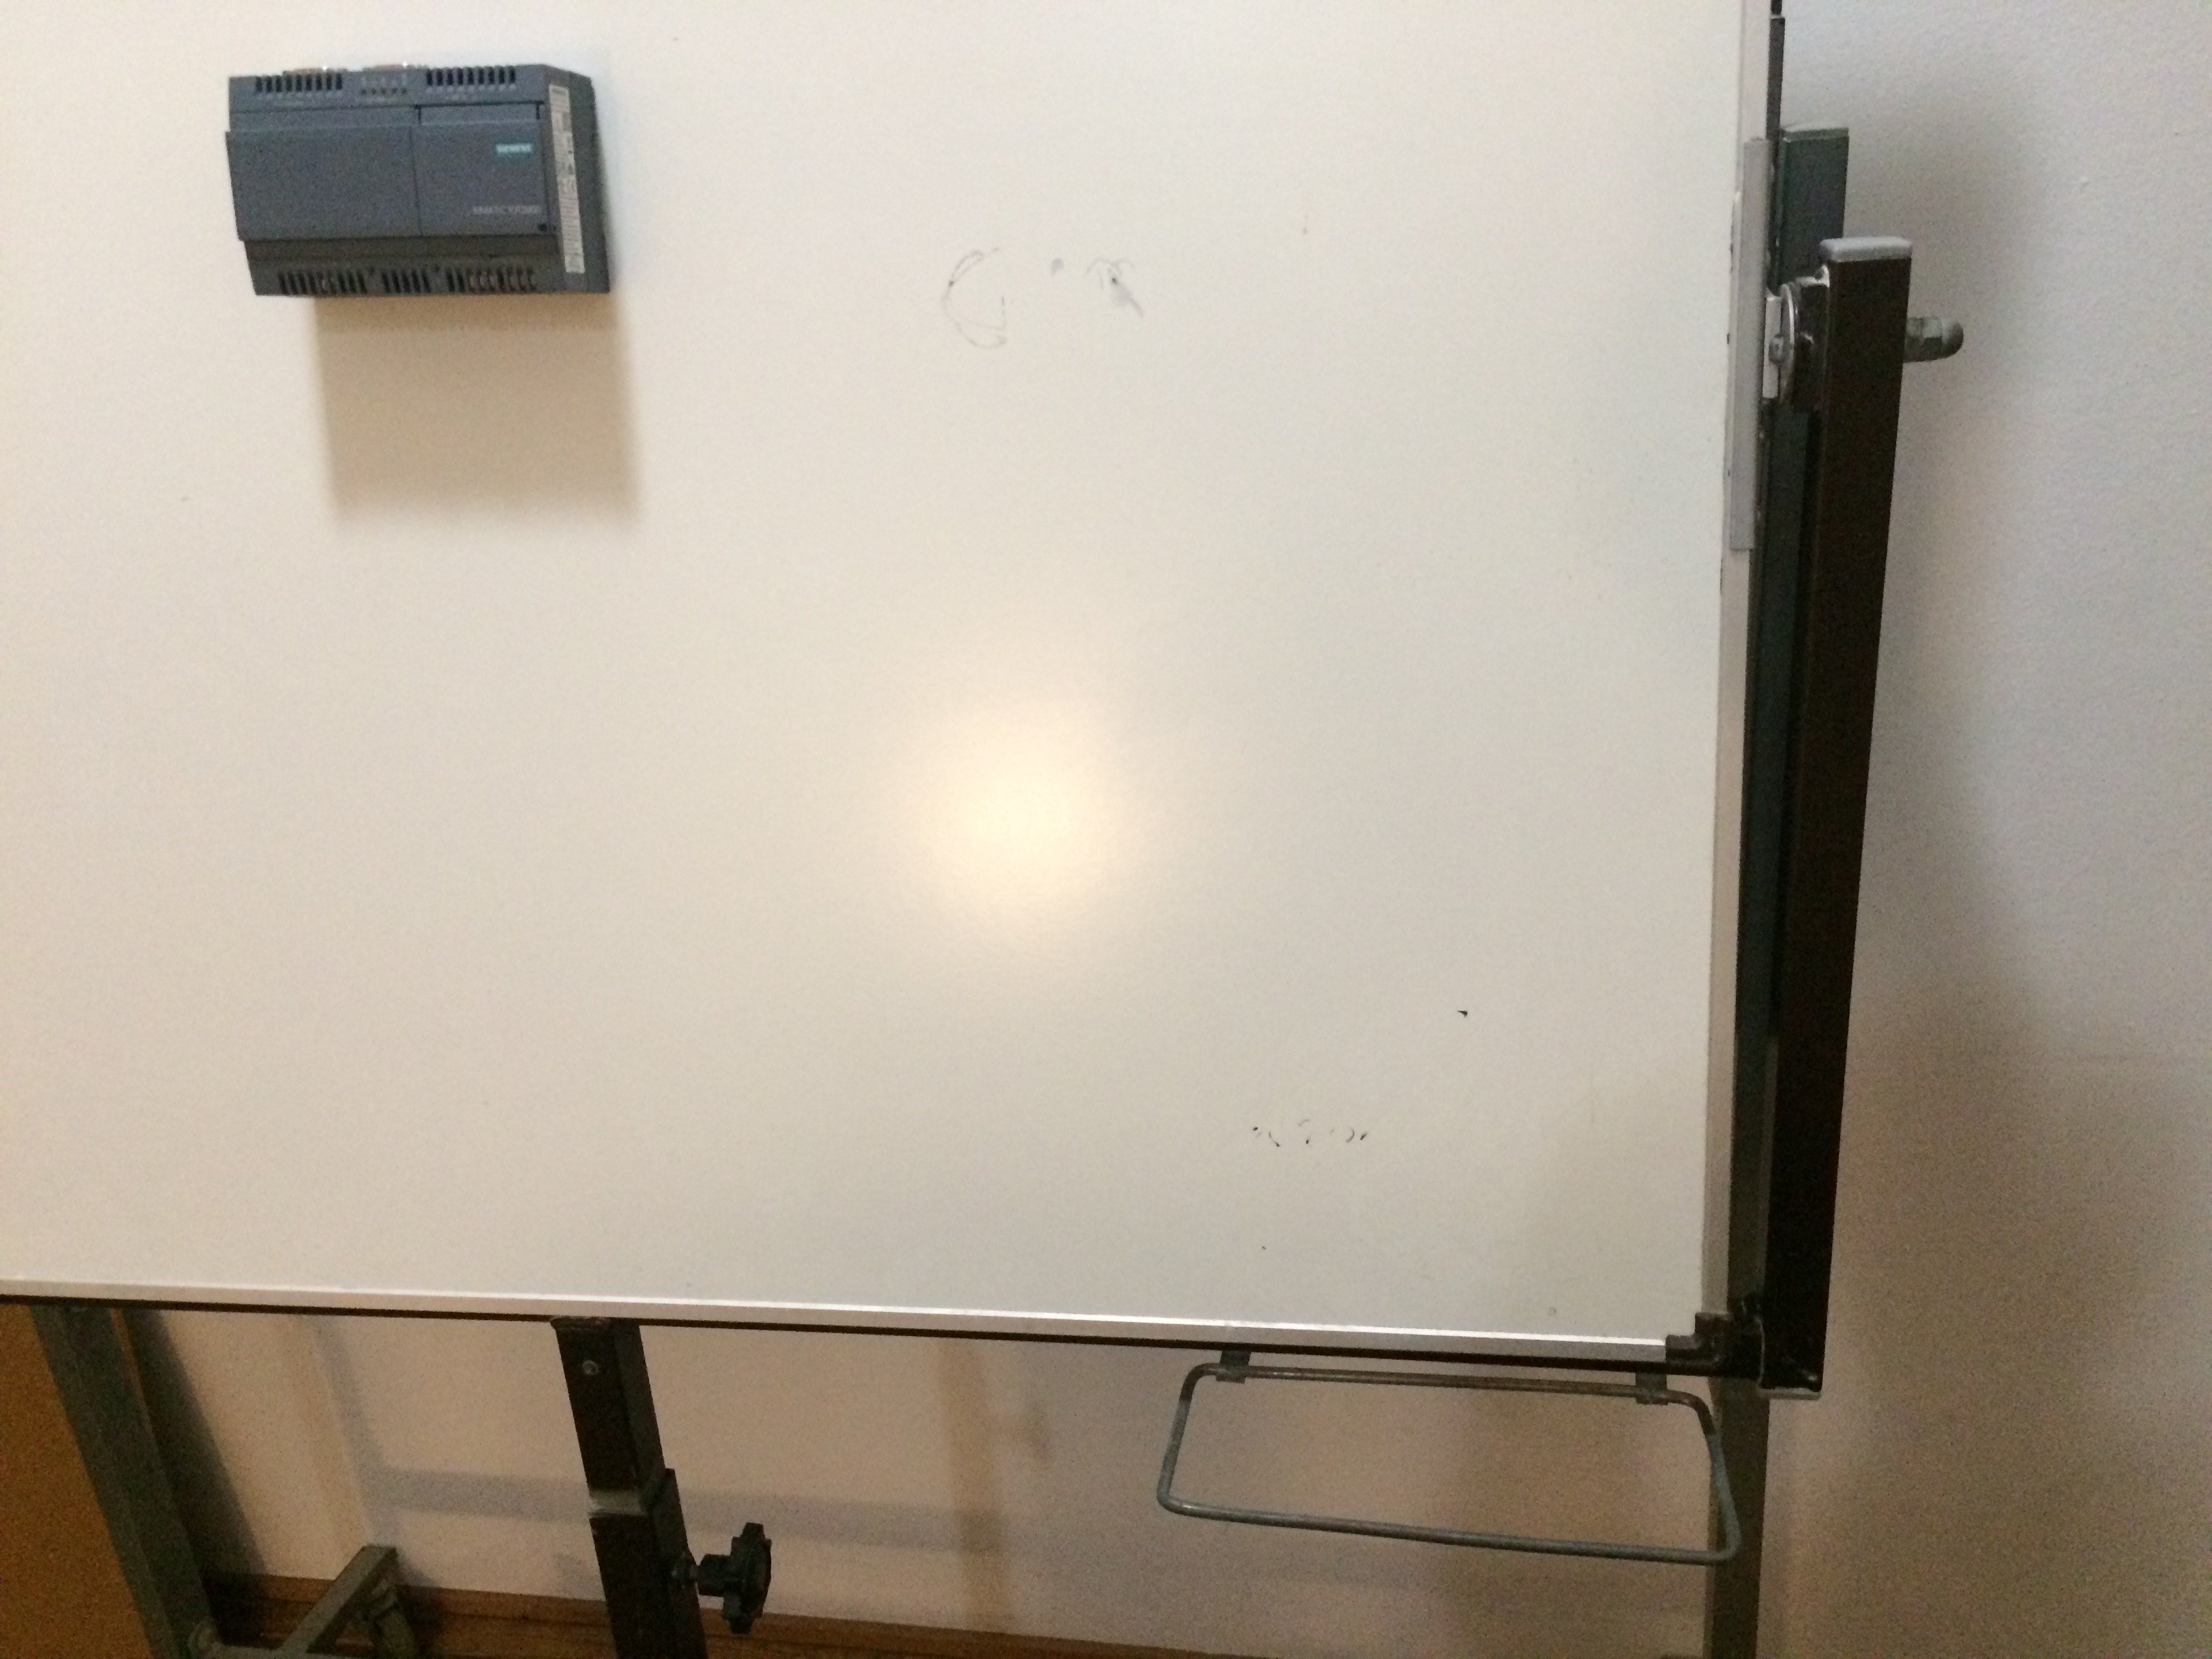iot2000: (221, 59, 617, 301)
